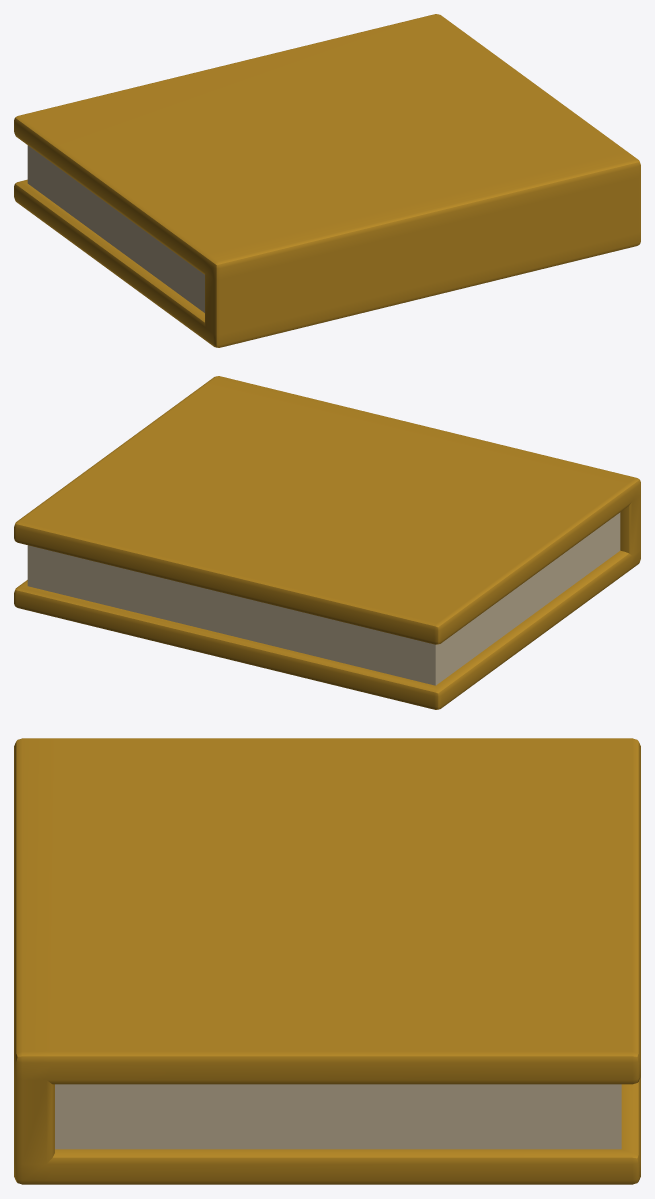
Rendered from Book_Yellow.fbx.
3 views of the same model, one above another, from view 1: azimuth 30°, elevation 25°; view 2: azimuth 150°, elevation 25°; view 3: azimuth 270°, elevation 25° (orthographic). The views are drawn at different scales.
Visible parts, largest first — view 1: pCube1; view 2: pCube1; view 3: pCube1.
Boxes of the visible parts, x1,y1,x2,y2 form: pCube1: (14, 14, 640, 347); pCube1: (14, 376, 640, 709); pCube1: (14, 738, 640, 1184).
Size of the model in its own units: 10.12 by 1.96 by 8.38.
